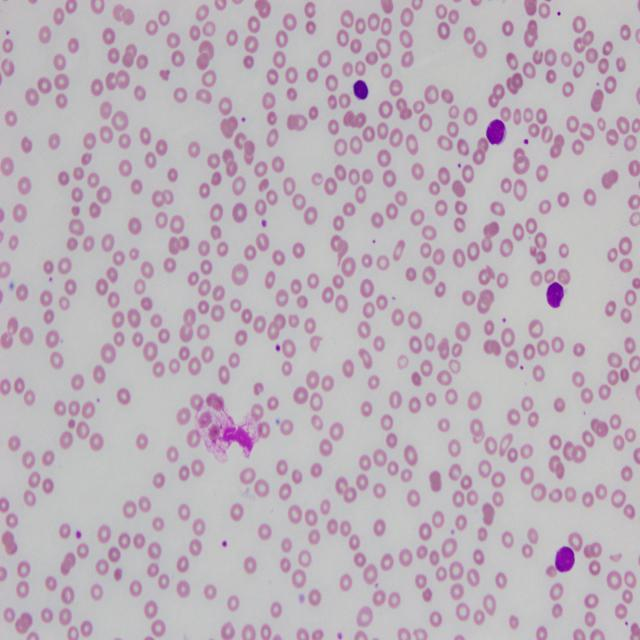cell: (555, 547, 575, 572), (486, 120, 506, 145), (546, 282, 564, 308), (354, 80, 369, 100)
